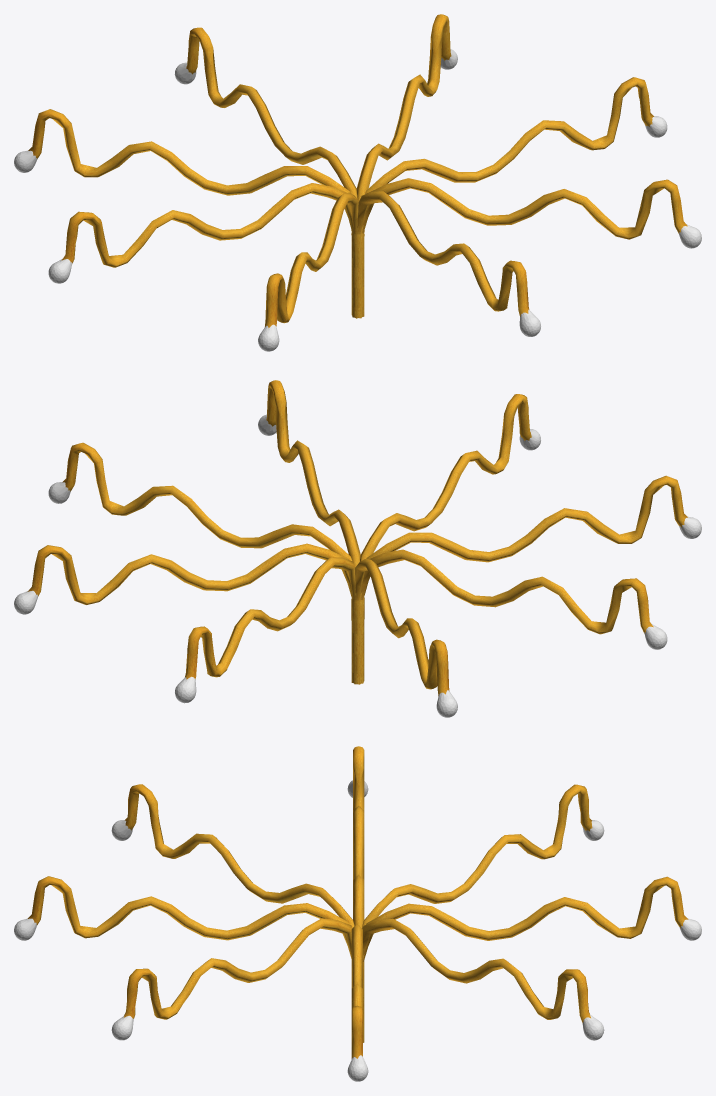
File: lustr_historicky.fbx
3 views of the same model, one above another, from view 1: azimuth 30°, elevation 25°; view 2: azimuth 150°, elevation 25°; view 3: azimuth 270°, elevation 25° (orthographic). The views are drawn at different scales.
Visible parts, largest first — view 1: nurbsCircle2; view 2: nurbsCircle2; view 3: nurbsCircle2.
Boxes of the visible parts, left/top/right/bottom form: nurbsCircle2: left=14, top=14, right=701, bottom=351; nurbsCircle2: left=14, top=380, right=701, bottom=717; nurbsCircle2: left=14, top=746, right=701, bottom=1081.
Size of the model in its own units: 9.59 by 2.55 by 9.59.
